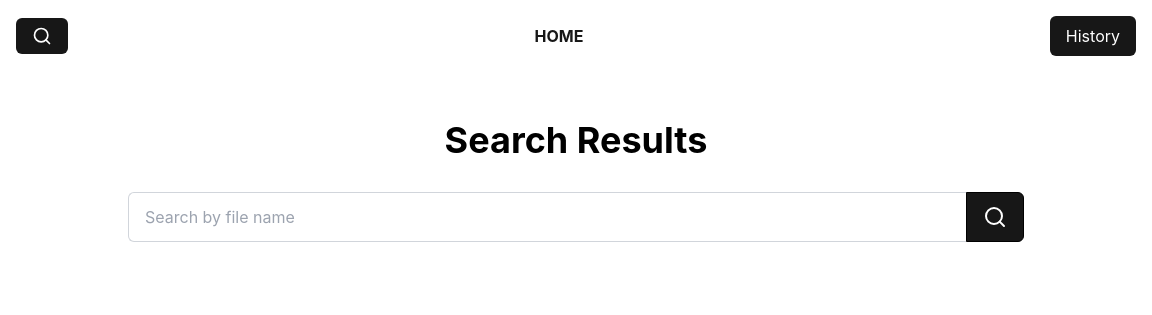
Test: Search Component › displays no results found when no data is returned
Type "test" into the field with placeholder "Search by file name" at (547, 217), box [128,192,966,242]
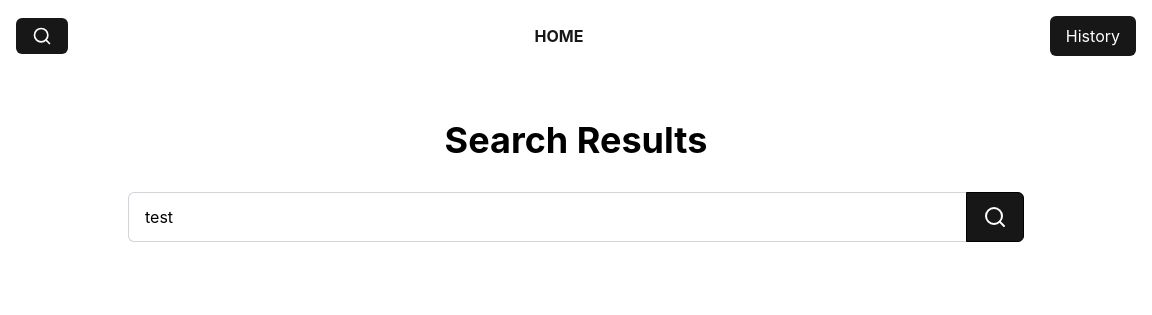
Click the button named "search" at (995, 217), box [966,192,1024,242]
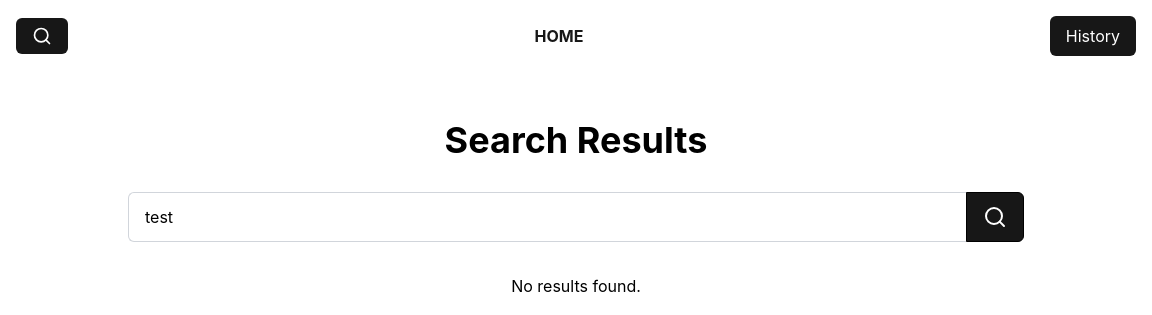
expect the text "No results found." is shown: met, box [511,274,641,298]
